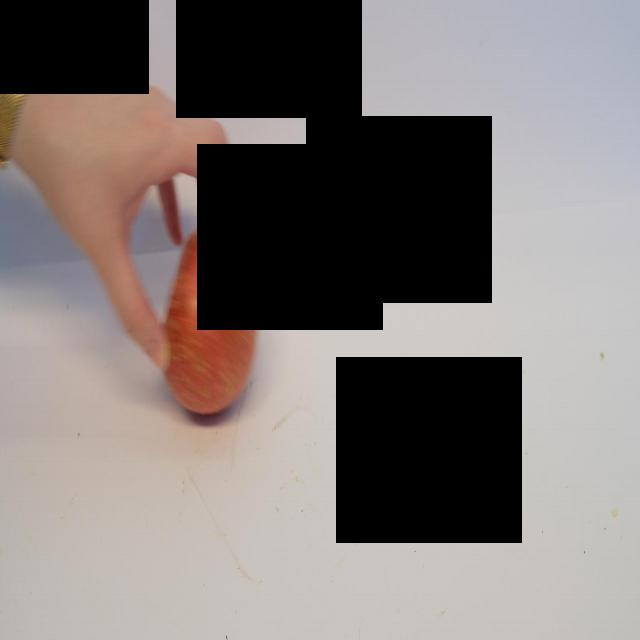apple: (168, 216, 264, 429)
